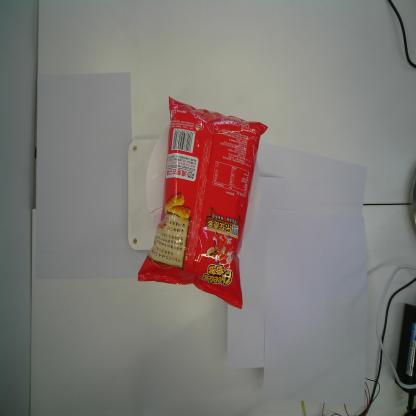Puffed Food: (136, 94, 269, 312)
